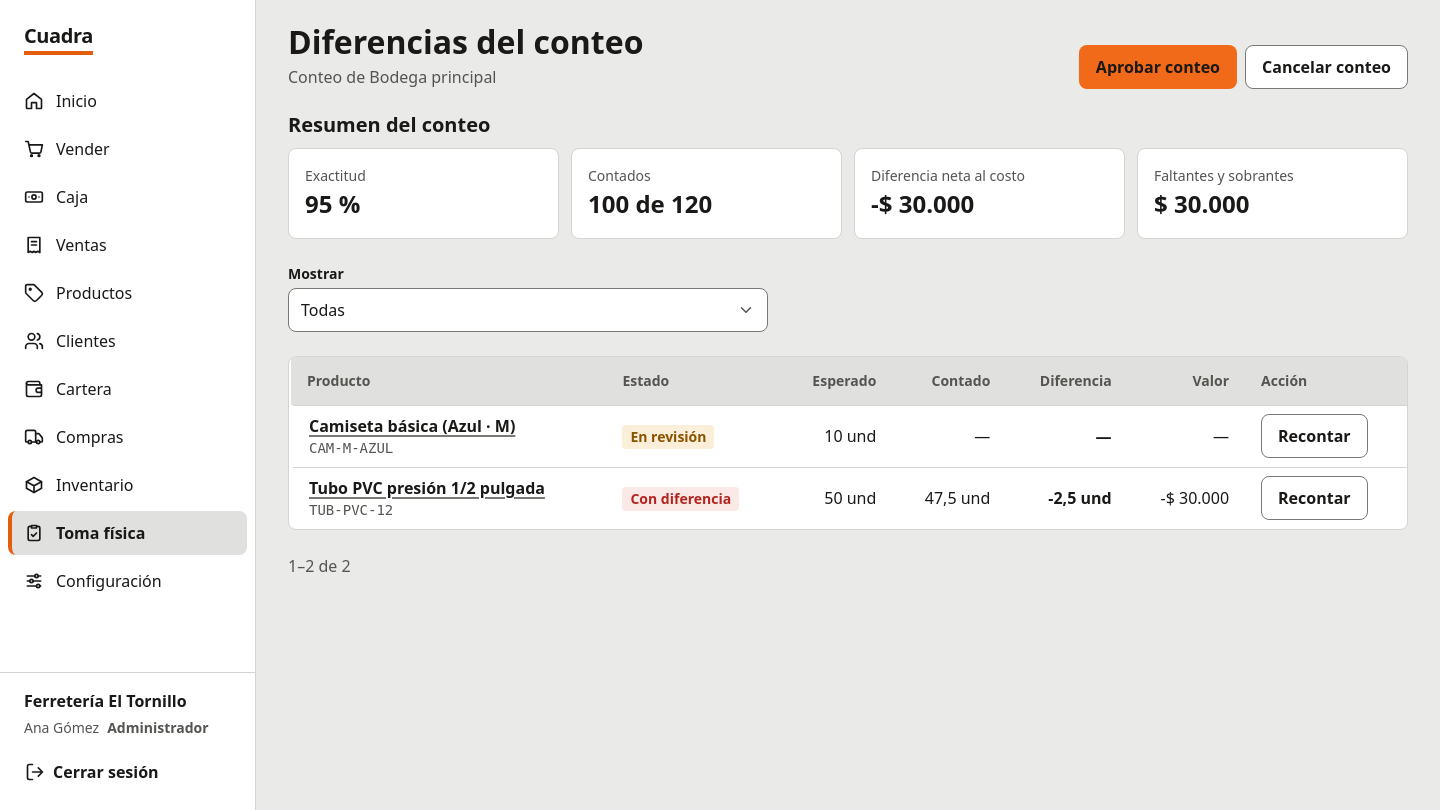
CountReviewPage › aprueba el conteo y vuelve a la lista de conteos
Click the button "Aprobar conteo" at point(1158, 67), box [1079, 45, 1237, 89]
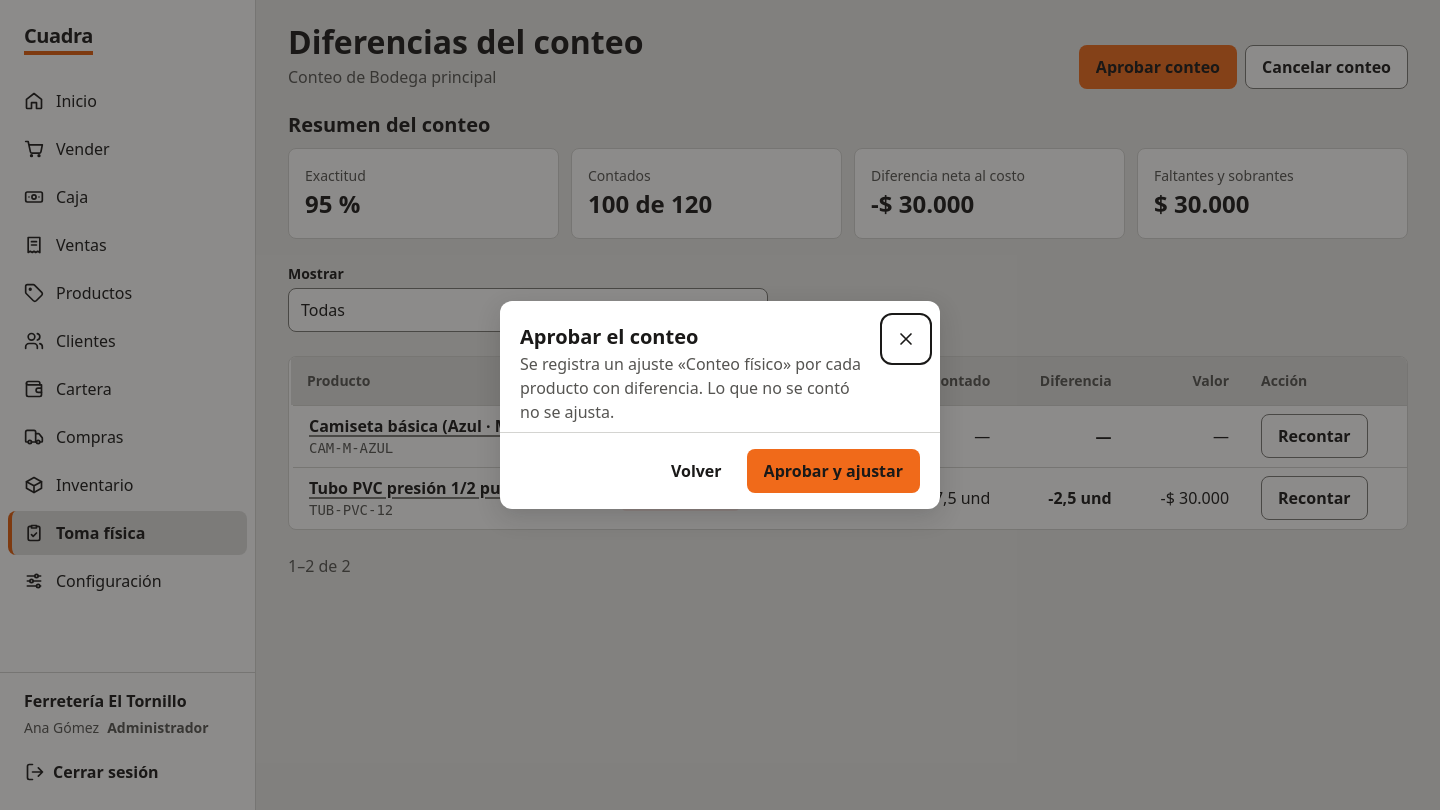
Click the button "Aprobar y ajustar" at point(833, 471), box [747, 449, 920, 493]
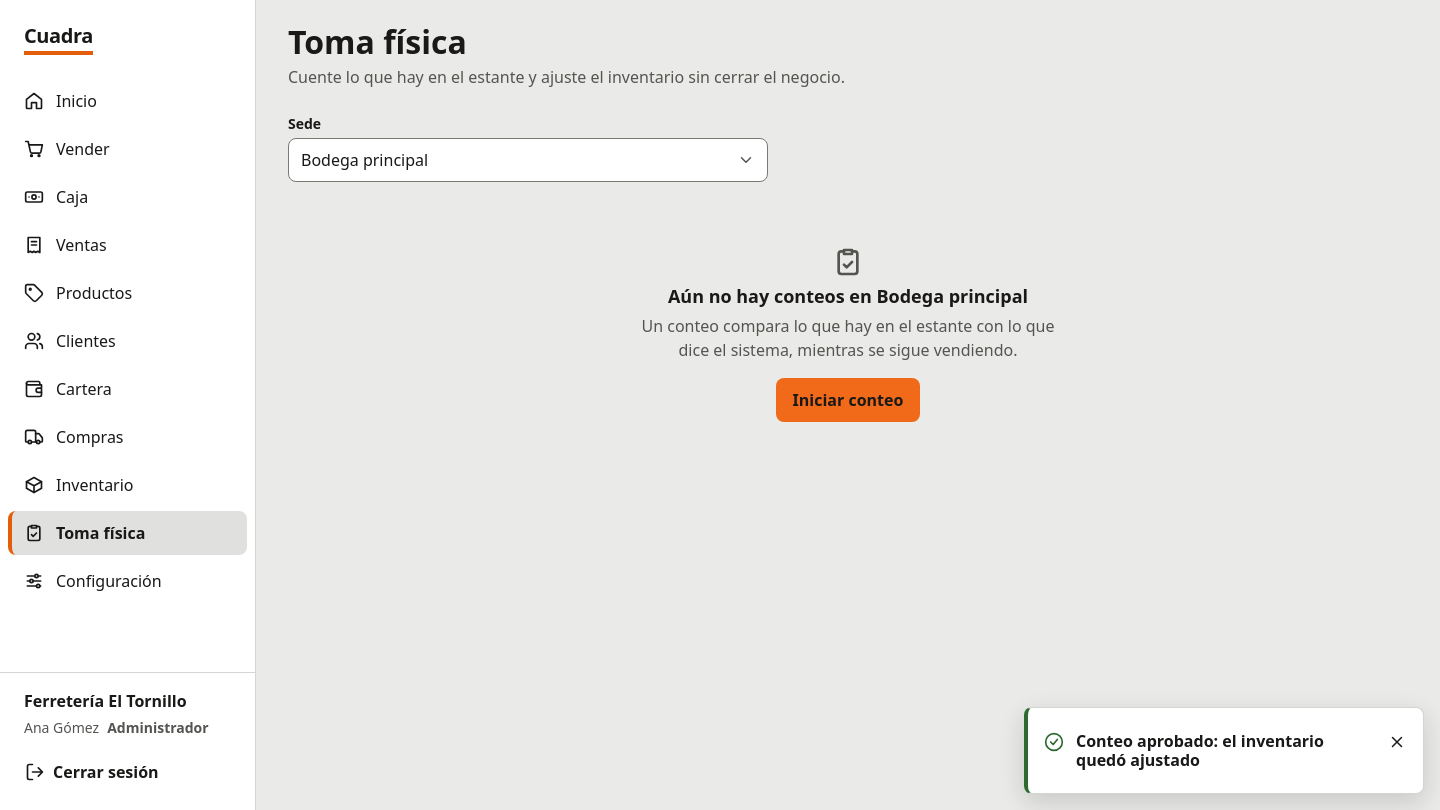
Now the heading "Toma física" is shown, box [288, 20, 467, 63]
